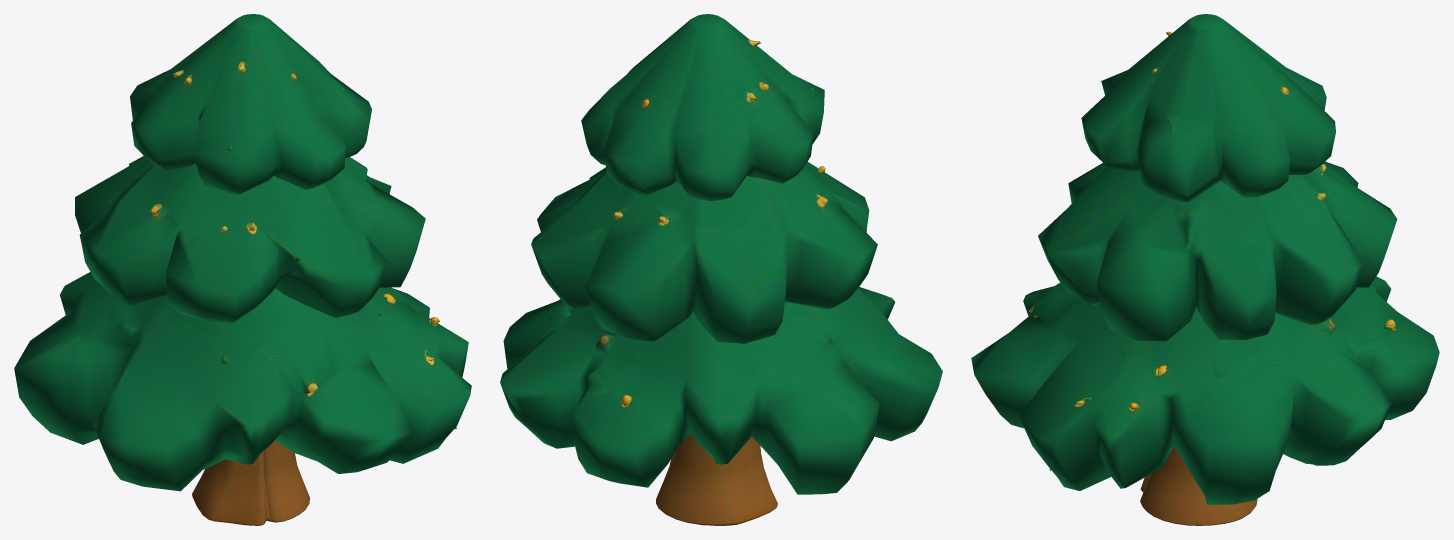
File: pine.glb
The picture shows the model from 3 angles, left to right: view 1: azimuth 30°, elevation 25°; view 2: azimuth 150°, elevation 25°; view 3: azimuth 270°, elevation 25°; orthographic projection.
Parts seen in each view (by area): view 1: prop-pine.glb; view 2: prop-pine.glb; view 3: prop-pine.glb.
Boxes of the visible parts, left/top/right/bottom form: prop-pine.glb: left=14, top=14, right=471, bottom=525; prop-pine.glb: left=500, top=14, right=942, bottom=525; prop-pine.glb: left=971, top=14, right=1439, bottom=525.
Bounding box in the file's own units: 0.8178 × 0.9995 × 0.8765.
Materials: 1 (1 with a texture image).
